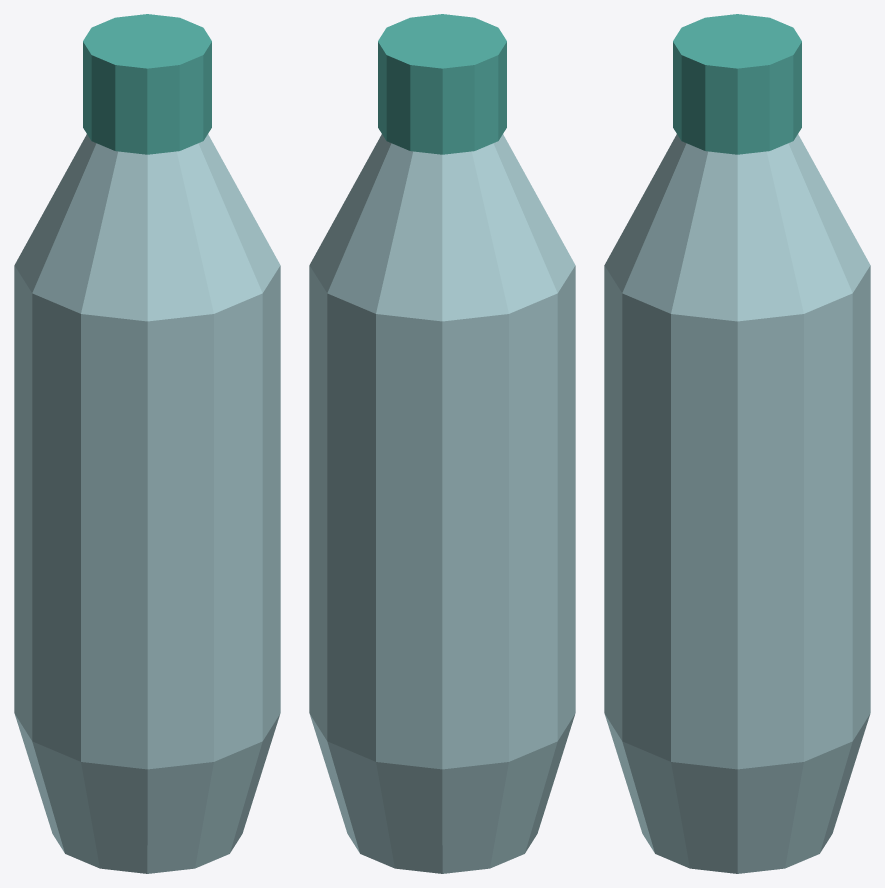
Rendered from supermarket-operations-water-bottle-f671099a__26837.glb.
3 renders of one model, left to right at view 1: azimuth 30°, elevation 25°; view 2: azimuth 150°, elevation 25°; view 3: azimuth 270°, elevation 25°, orthographic.
Parts seen in each view (by area): view 1: water-bottle; view 2: water-bottle; view 3: water-bottle.
Boxes of the visible parts, x1,y1,x2,y2 form: water-bottle: (14,14,280,873); water-bottle: (309,14,575,873); water-bottle: (604,14,870,873).
Bounding box in the file's own units: 0.07 × 0.23 × 0.07.
